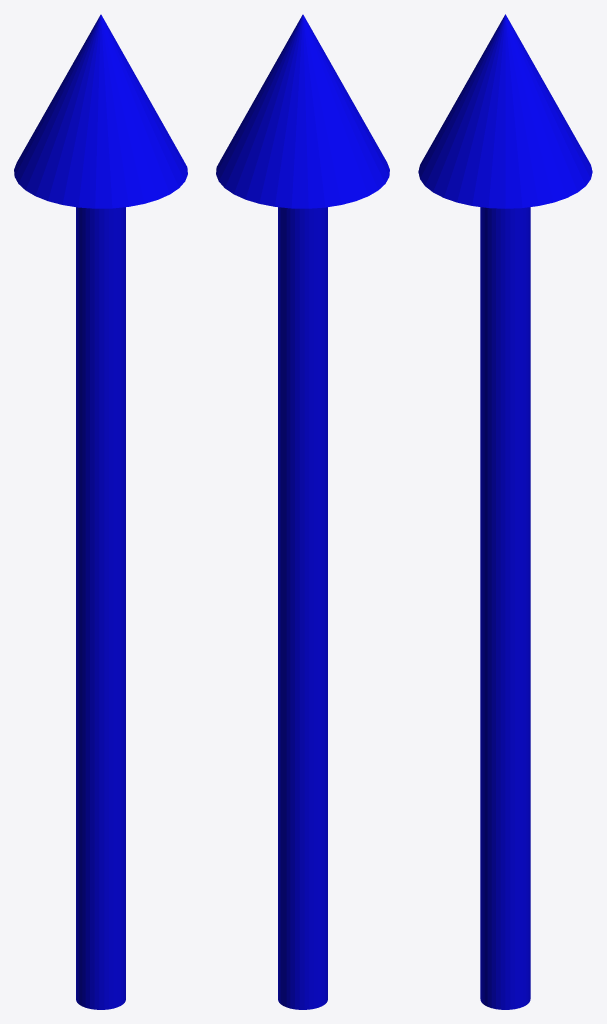
Rendered from Zarrow.fbx.
3 views of the same model, side by side, from view 1: azimuth 30°, elevation 25°; view 2: azimuth 150°, elevation 25°; view 3: azimuth 270°, elevation 25° (orthographic).
Parts seen in each view (by area): view 1: Zarrow; view 2: Zarrow; view 3: Zarrow.
Boxes of the visible parts, <box> form: Zarrow: <box>14,14,187,1009</box>; Zarrow: <box>216,14,389,1009</box>; Zarrow: <box>418,14,592,1009</box>.
Bounding box in the file's own units: 34.86 × 217 × 34.86.
